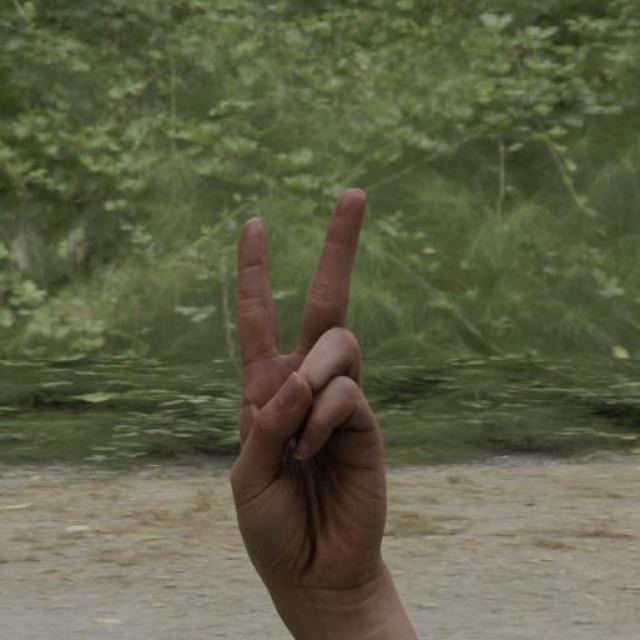V: (225, 184, 394, 597)
